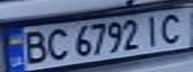2: (121, 16, 145, 51)
6: (72, 23, 93, 57)
7: (90, 20, 109, 55)
9: (106, 18, 127, 53)
B: (18, 28, 51, 65)
C: (157, 10, 190, 45), (42, 26, 72, 61)
I: (139, 12, 166, 46)
